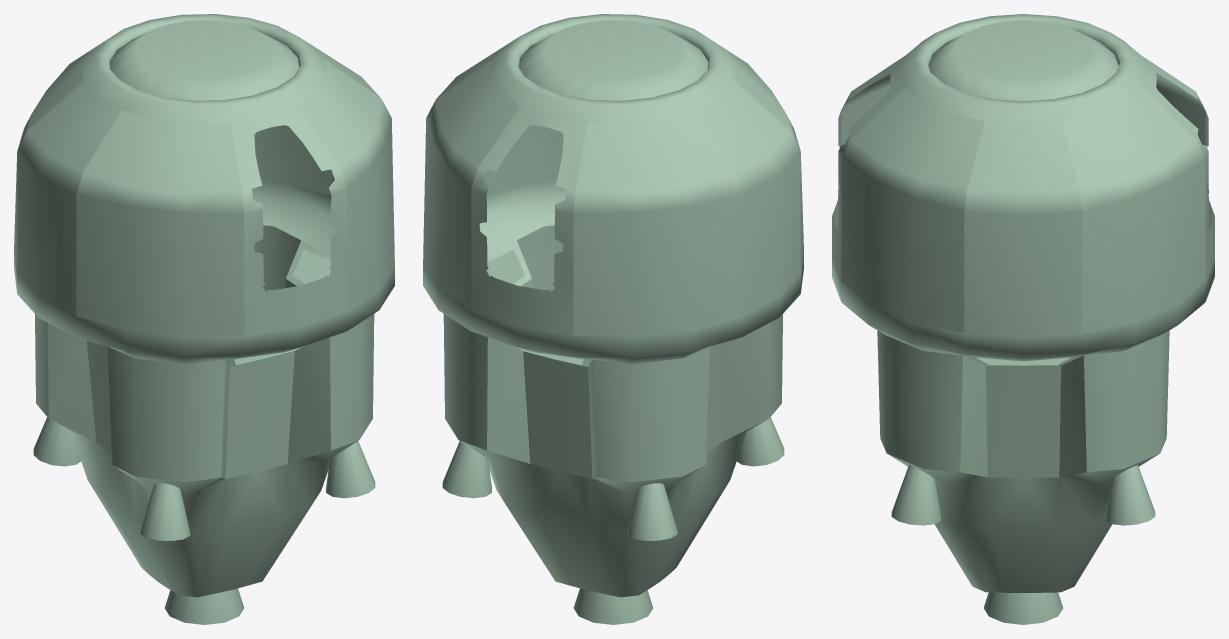
Rendered from REENTRY_CRAFT_BODY_HOLES_LOD.fbx.
3 renders of one model, left to right at view 1: azimuth 30°, elevation 25°; view 2: azimuth 150°, elevation 25°; view 3: azimuth 270°, elevation 25°, orthographic.
Visible parts, largest first — view 1: POD_BOD_HOLES_LOD1_GEO; view 2: POD_BOD_HOLES_LOD1_GEO; view 3: POD_BOD_HOLES_LOD1_GEO.
Part boxes in pixels (<box>): POD_BOD_HOLES_LOD1_GEO: <box>14,14,394,624</box>; POD_BOD_HOLES_LOD1_GEO: <box>423,14,803,624</box>; POD_BOD_HOLES_LOD1_GEO: <box>832,14,1214,624</box>.
Size of the model in its own units: 5.8 by 9.33 by 5.8.
